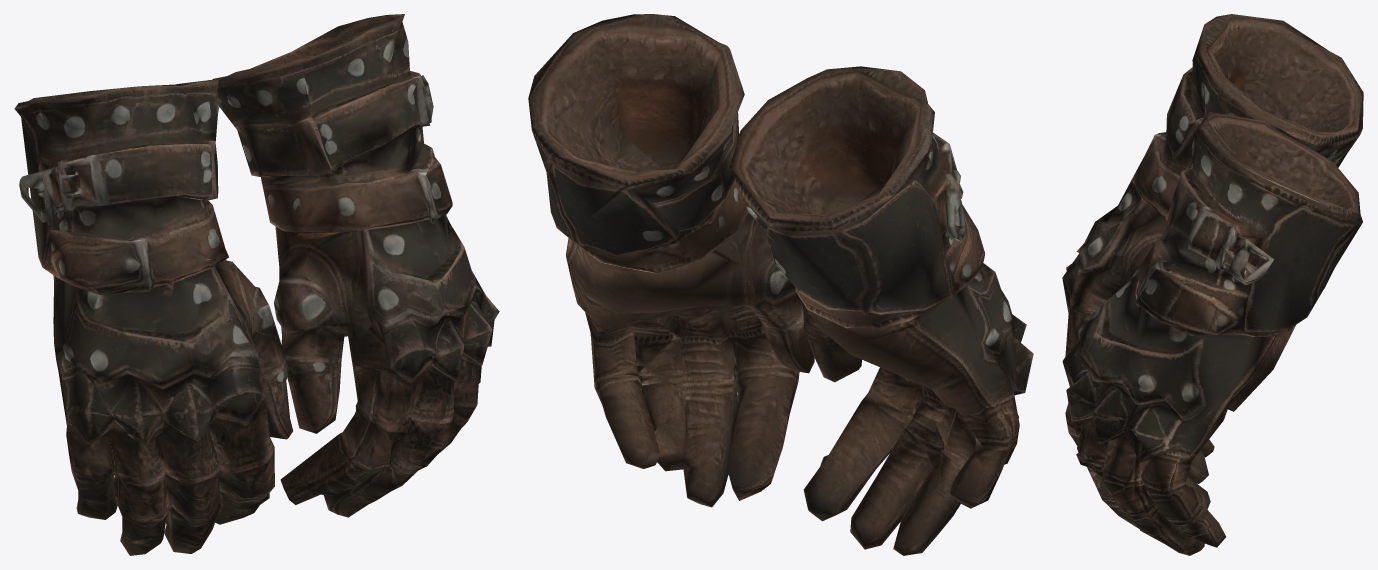
The model's file is Leather_Gloves_Armor.glb.
The picture shows the model from 3 angles, left to right: view 1: azimuth 30°, elevation 25°; view 2: azimuth 150°, elevation 25°; view 3: azimuth 270°, elevation 25°; orthographic projection. The views are drawn at different scales.
Size of the model in its own units: 1.74 by 1.89 by 1.17.
Materials: 1 (1 with a texture image).
